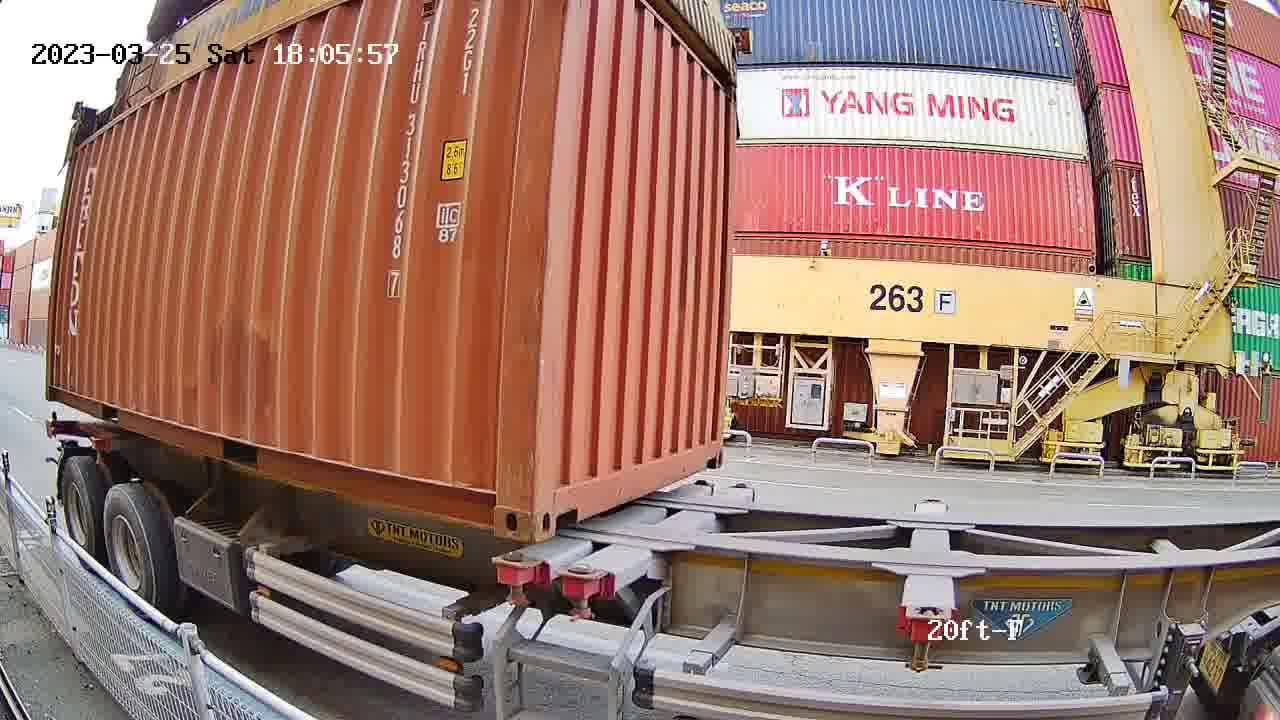Chassis: (567, 484, 757, 592), (499, 480, 717, 566)
Cone: (492, 549, 541, 609), (562, 566, 607, 623)
Hole_L: (532, 464, 583, 543)
Hole_R: (461, 465, 535, 544), (703, 432, 723, 471)
Tire: (104, 489, 154, 611), (62, 461, 97, 561)
